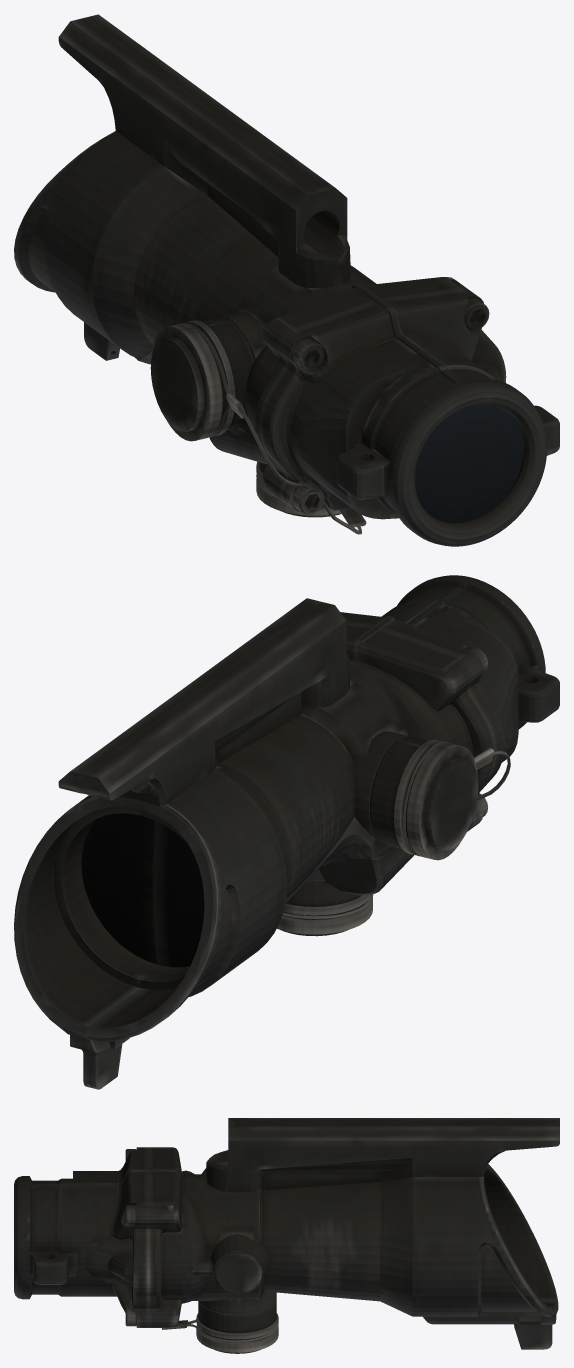
The picture shows the model from 3 angles, top to bottom: view 1: azimuth 30°, elevation 25°; view 2: azimuth 150°, elevation 25°; view 3: azimuth 270°, elevation 25°; orthographic projection. The views are drawn at different scales.
Visible parts, largest first — view 1: TW_5c05293e0db83400232fff80_PZ_Import; view 2: TW_5c05293e0db83400232fff80_PZ_Import; view 3: TW_5c05293e0db83400232fff80_PZ_Import.
Part boxes in pixels (<box>): TW_5c05293e0db83400232fff80_PZ_Import: <box>14,14,559,546</box>; TW_5c05293e0db83400232fff80_PZ_Import: <box>14,575,559,1089</box>; TW_5c05293e0db83400232fff80_PZ_Import: <box>14,1118,559,1353</box>.
Bounding box in the file's own units: 0.032 × 0.0837 × 0.038.
Materials: 1 (1 with a texture image).
